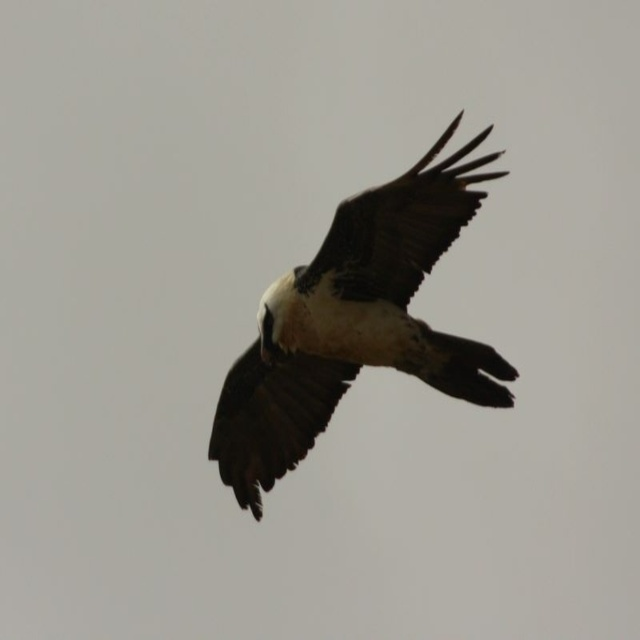Eagle: (206, 102, 521, 526)
